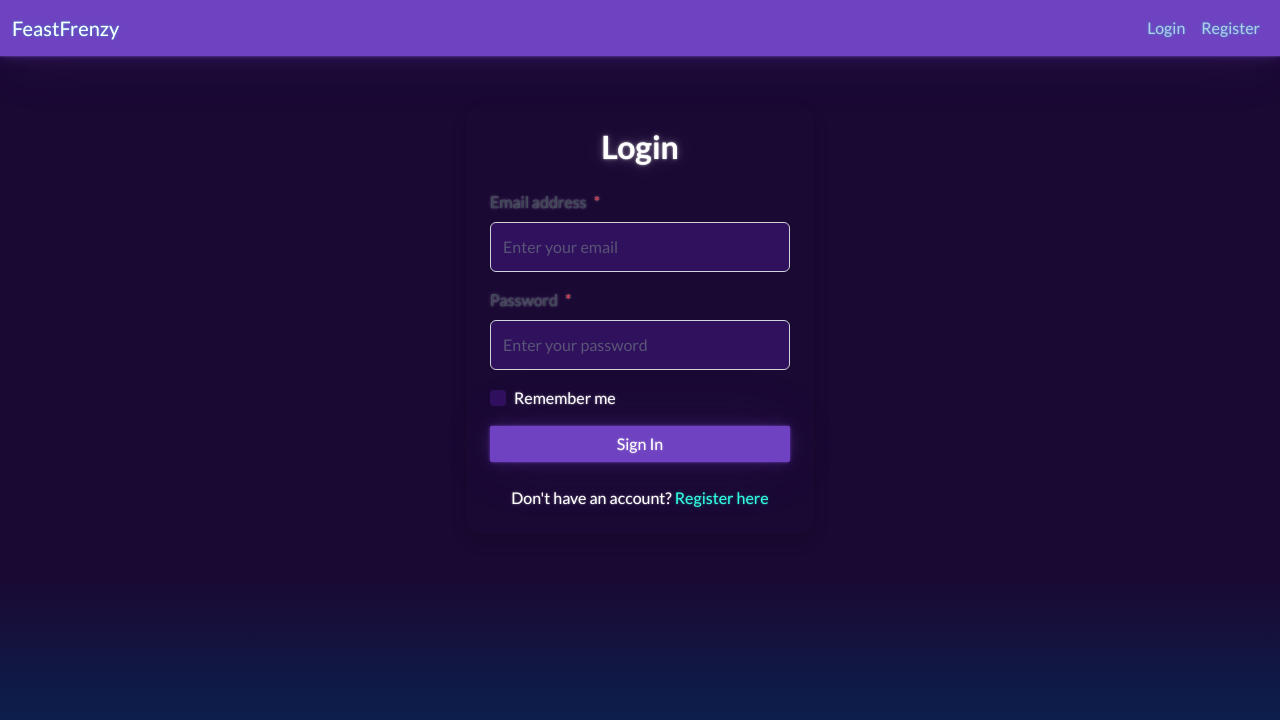
Test: Authentication › Login Page › should show error for invalid credentials
The width and height of the screenshot is (1280, 720).
Type "rossz@test.hu" into the field with id "email" at {"x": 640, "y": 247}, box x1=490 y1=222 x2=790 y2=272
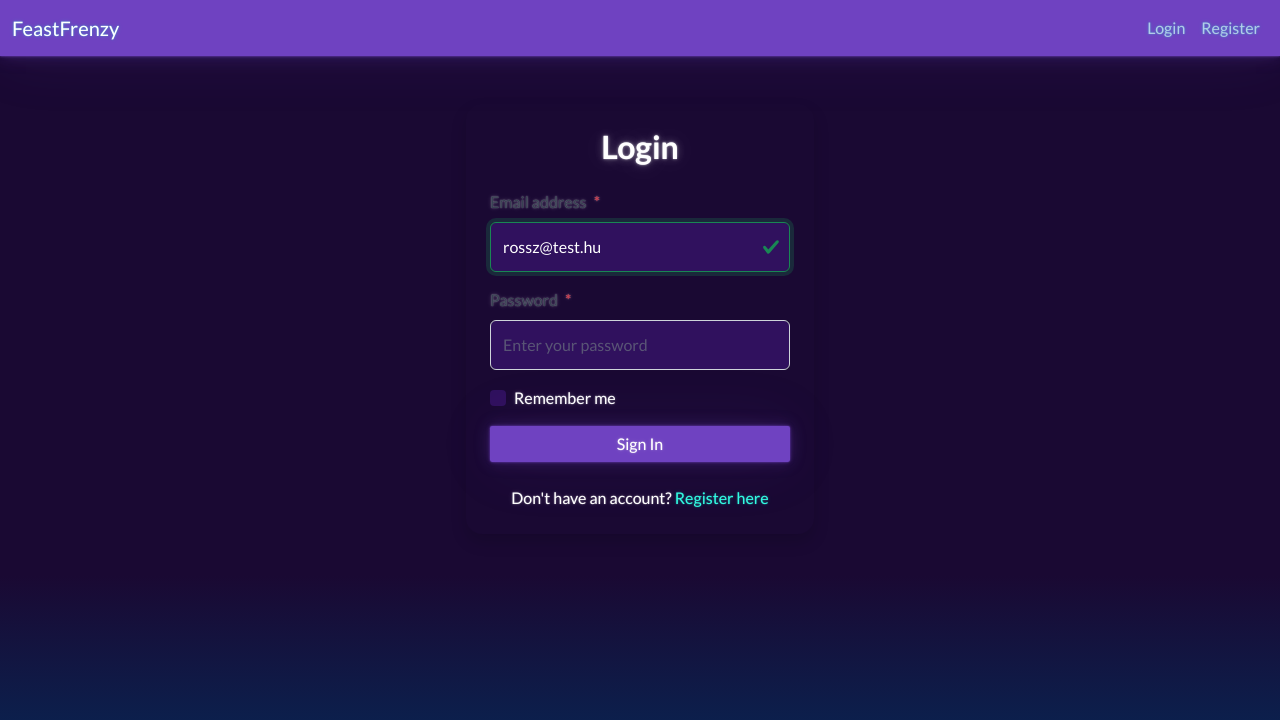
Type "RosszJelszo123!" into the password field labelled "Password *" at {"x": 640, "y": 345}, box x1=490 y1=320 x2=790 y2=370
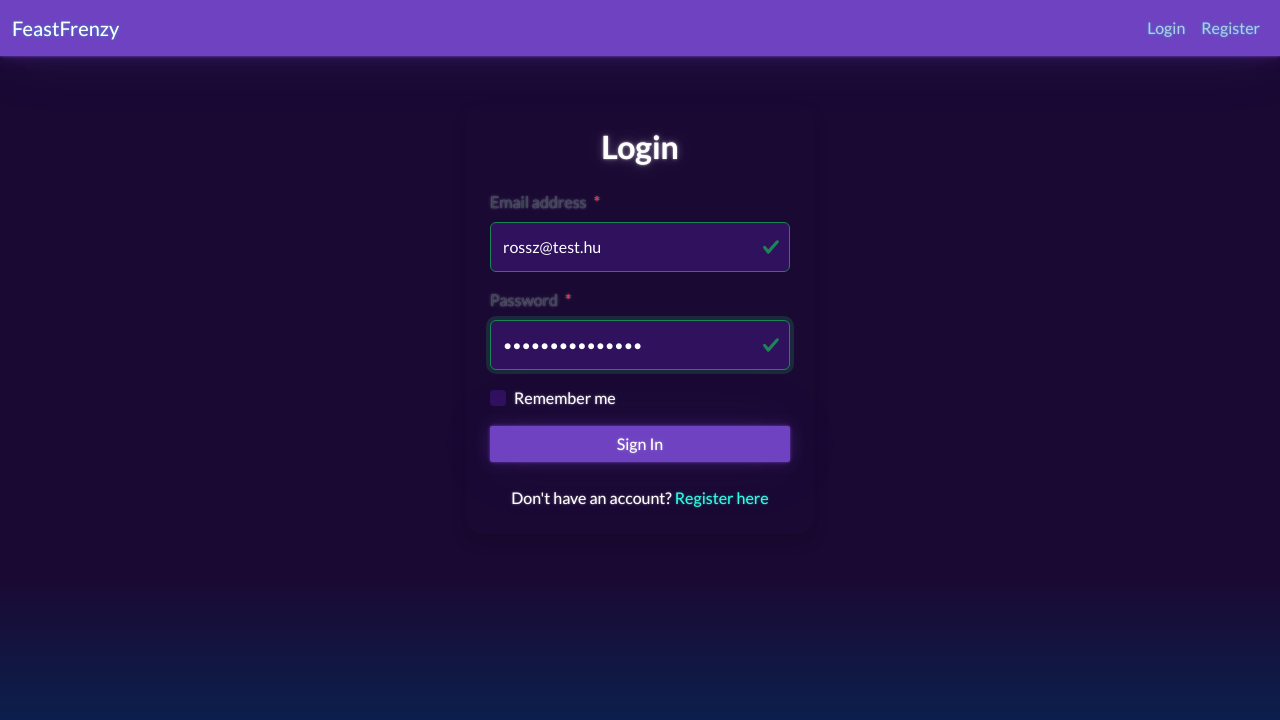
Click the submit button at {"x": 640, "y": 444}, box x1=490 y1=426 x2=790 y2=462
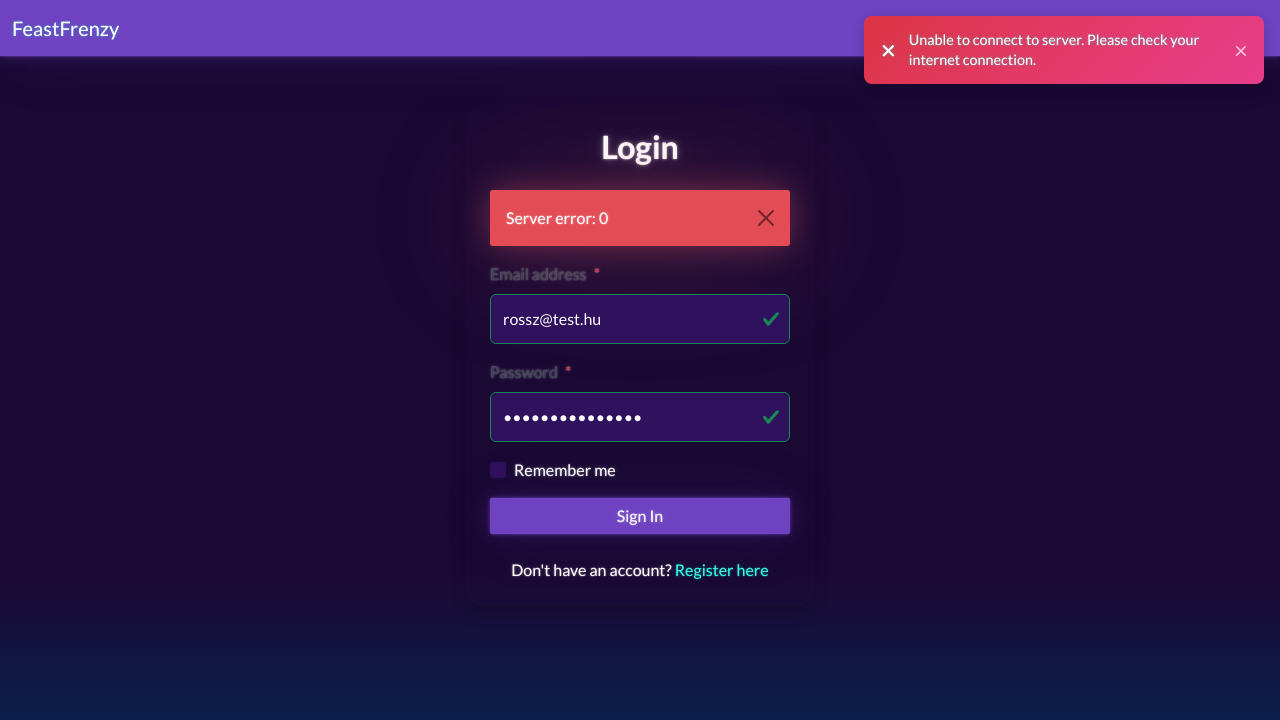
Expected: the message "✕ Unable to connect to server. Please check your internet connection. ×" is shown, x1=864 y1=16 x2=1264 y2=84
